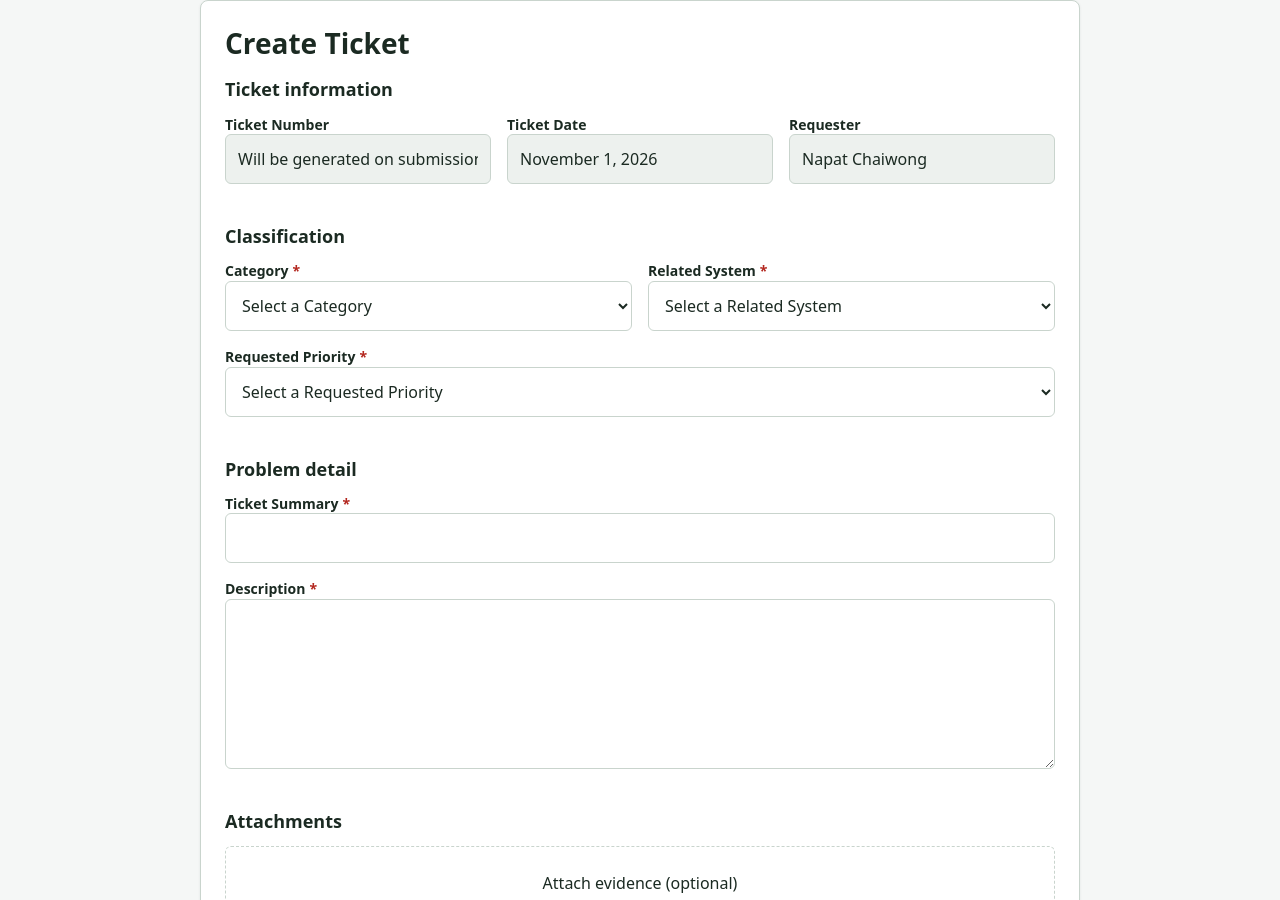
CreateTicket (UI-13 - AC-15) › disables Submit while a creation is in flight and issues no second request
Select "Hardware" in the dropdown with test id "field-category" at [428, 306], box [225,281,632,331]
Select "Corporate Laptop" in the dropdown with test id "field-related-system" at [852, 306], box [648,281,1055,331]
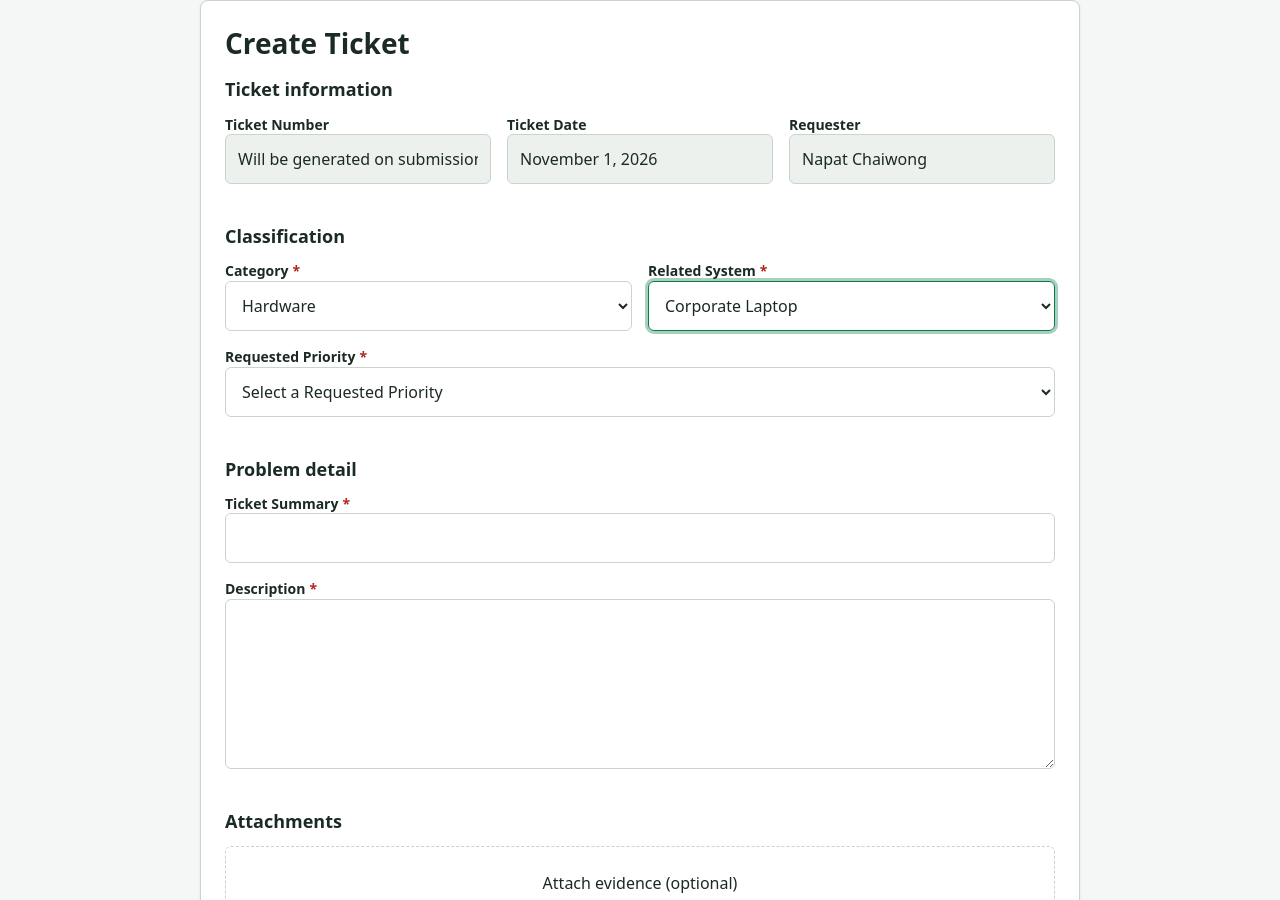
Select "High" in the dropdown with test id "field-priority" at [640, 392], box [225,366,1055,416]
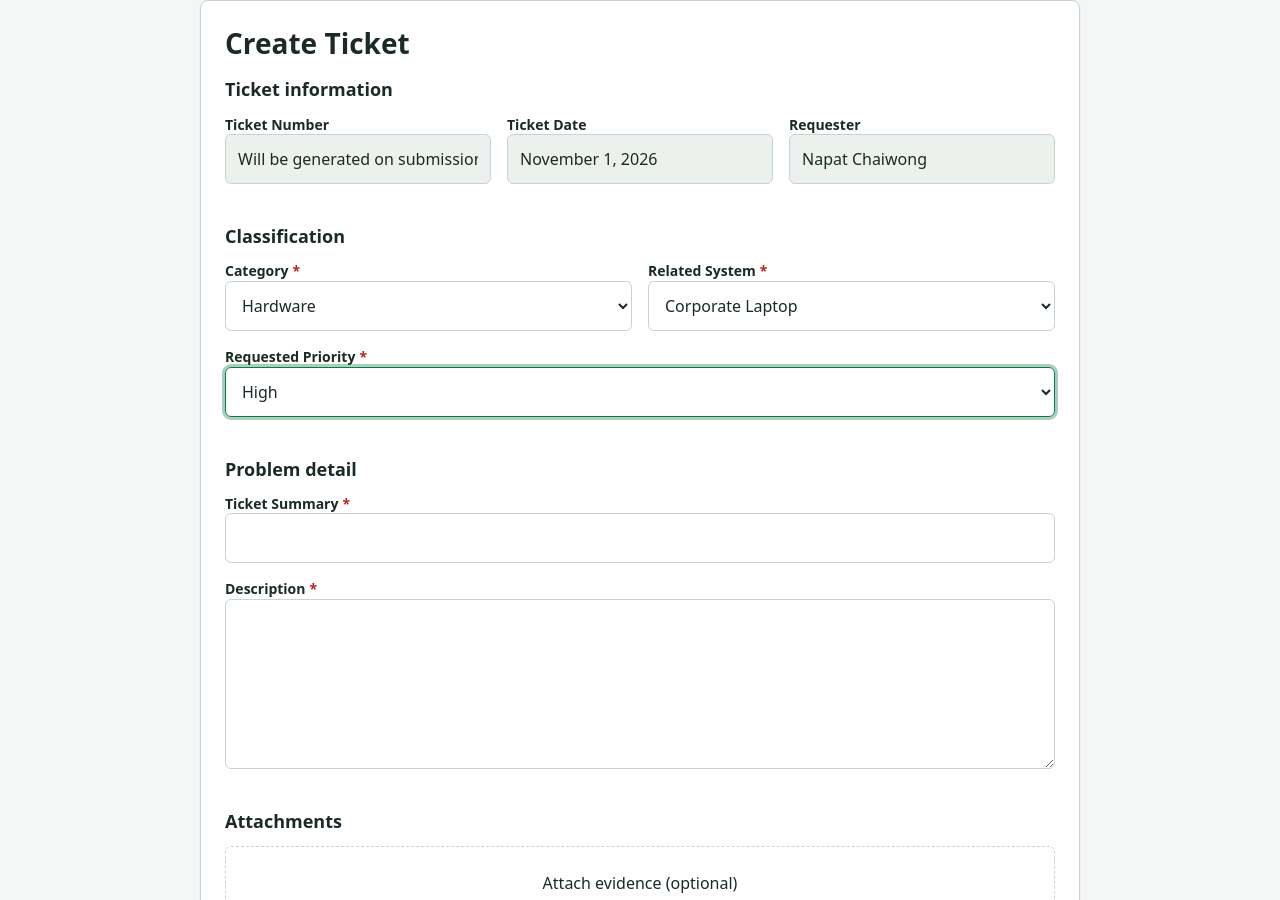
Type "Laptop battery drains within one hour" into the field with test id "field-summary".
click(640, 538); type("Laptop battery drains within one hour")  # box [225,513,1055,563]
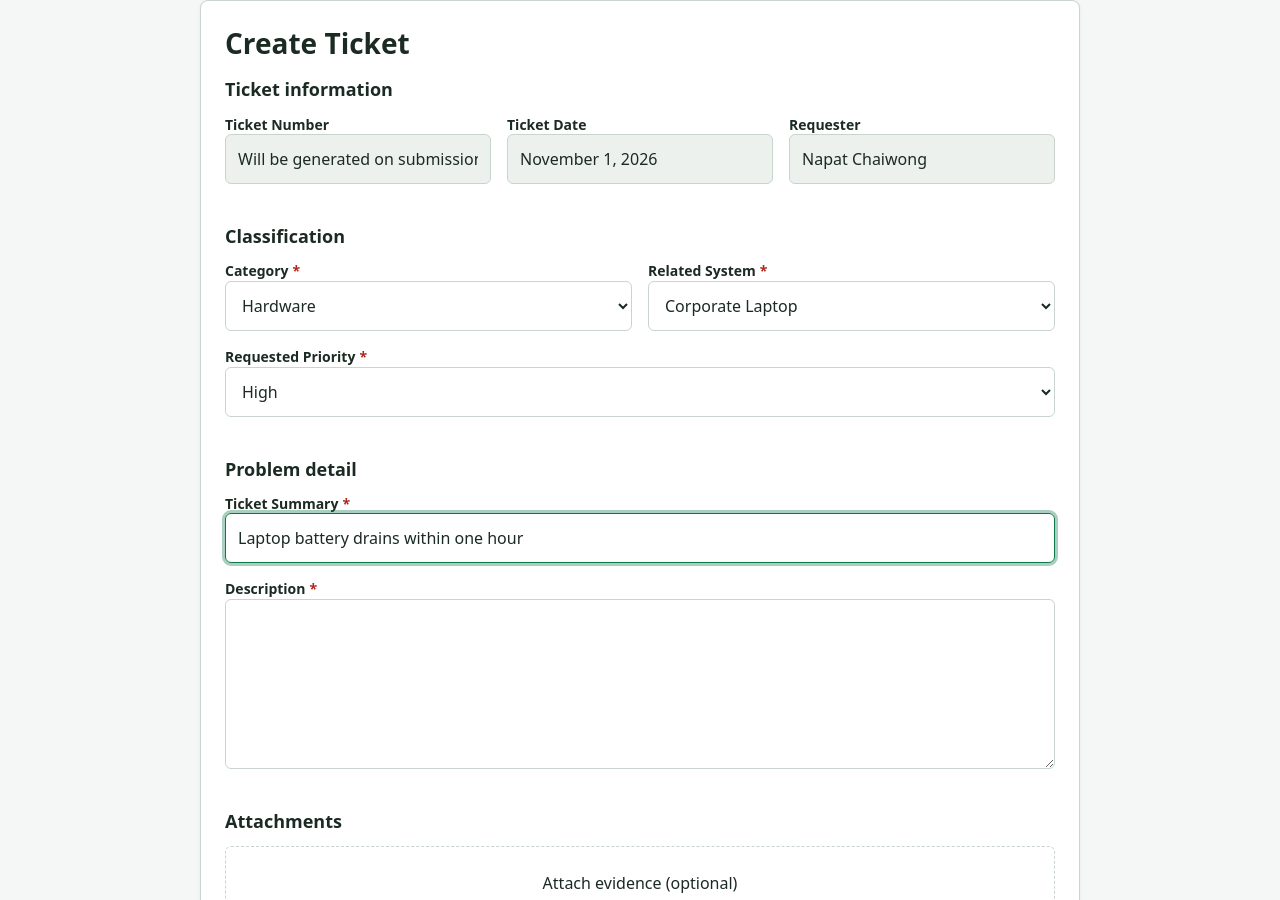
Type "Since the last Windows update the battery drops from full to nearly empty in about an hour." into the text box with test id "field-description".
click(640, 684); type("Since the last Windows update the battery drops from full to nearly empty in about an hour.")  # box [225,599,1055,769]
(page scrolled)
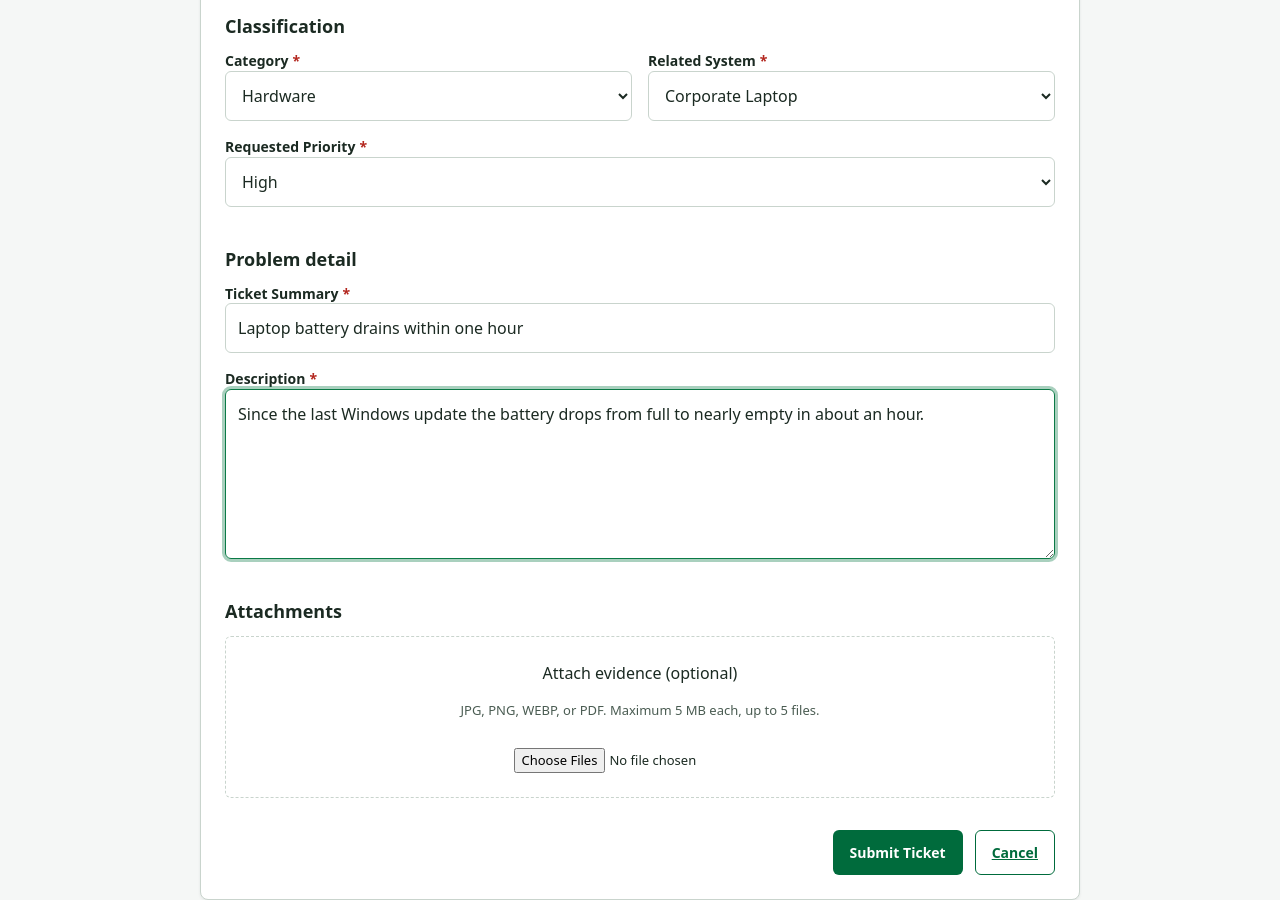
Click the button with test id "btn-submit-ticket".
click(898, 853)  # box [833,830,963,875]
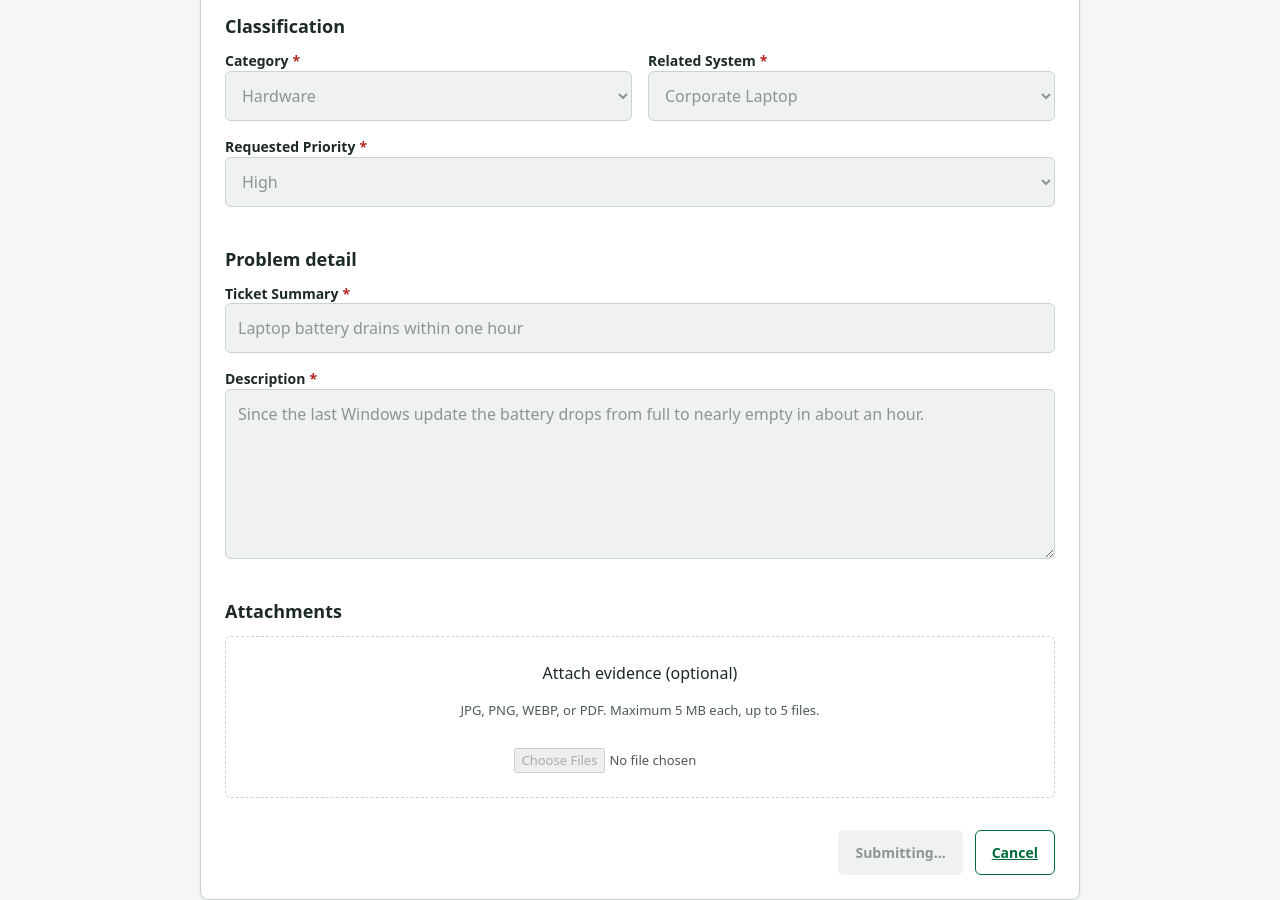
Now the button with test id "btn-submit-ticket" is disabled
Now the button with test id "btn-submit-ticket" shows "Submitting"
Click the button with test id "btn-submit-ticket".
click(901, 853)  # box [838,830,963,875]
(page scrolled)
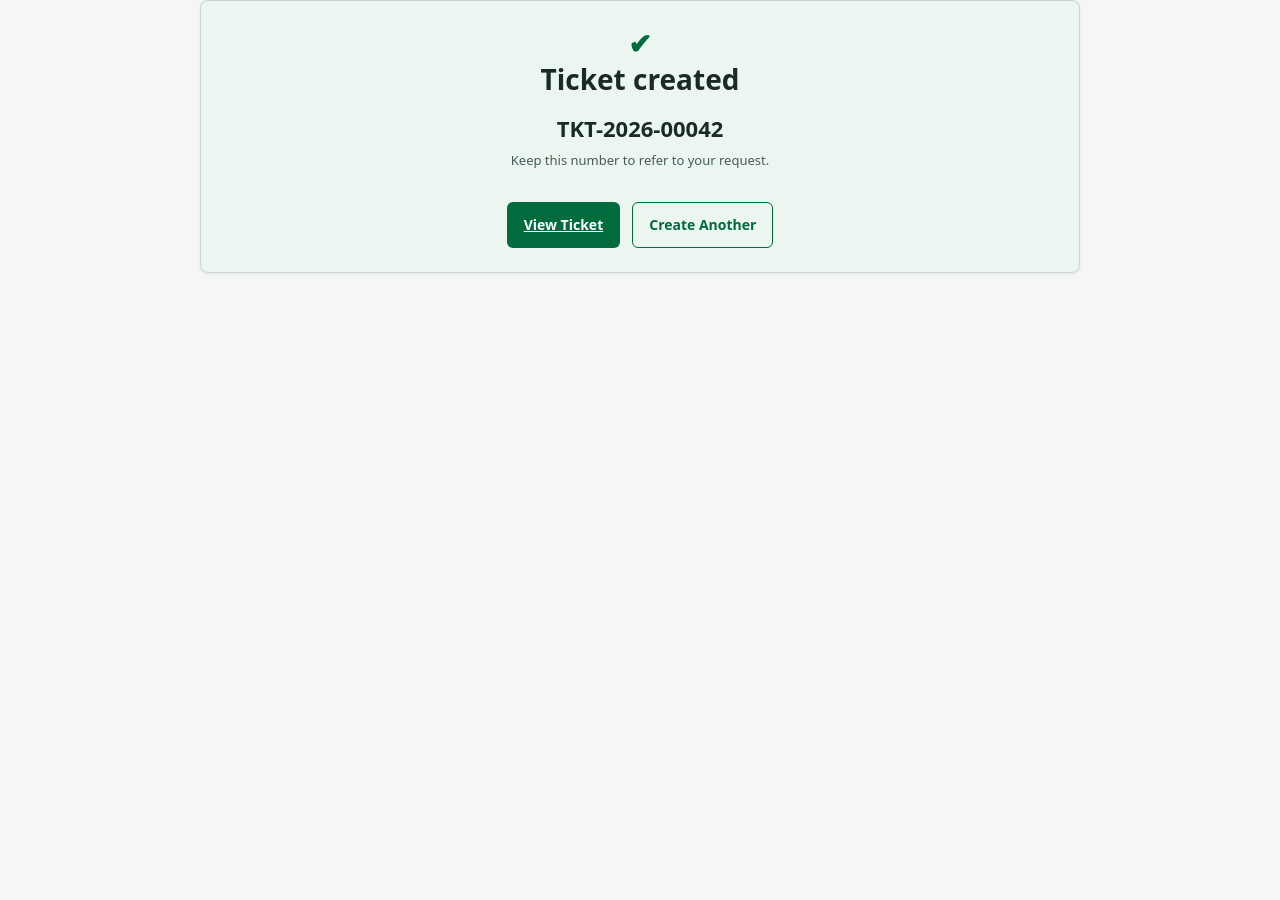
Now the element with test id "state-created" is shown, box [200,0,1080,273]
